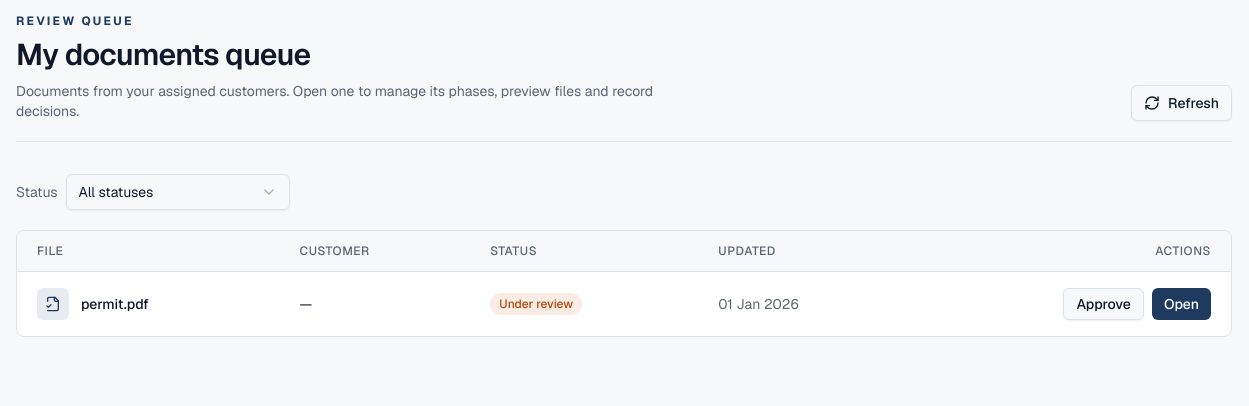
Test case: frontend modules › loads documents and approves an item under review
Expected: the text "permit.pdf" is shown, [81,294,149,314]
Click the button "Approve": (1104, 304) [1063,288,1144,320]
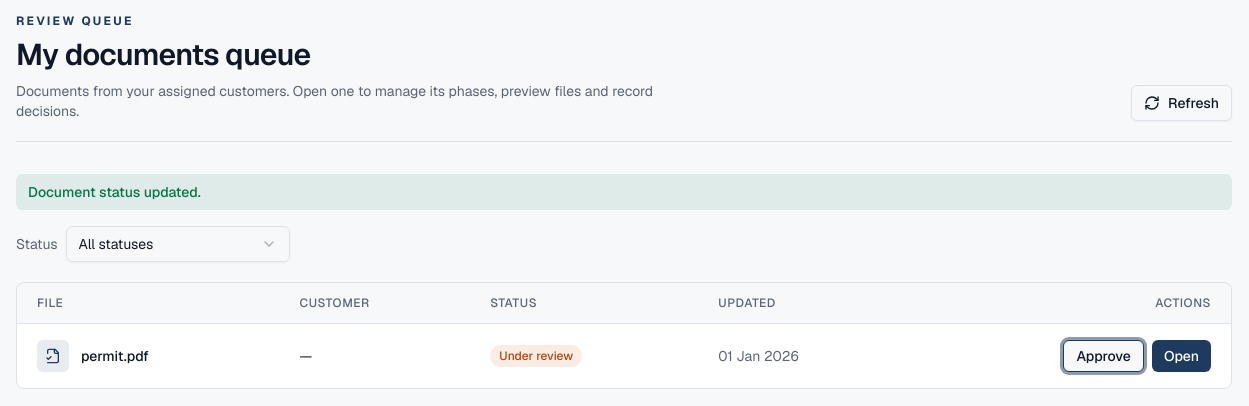
Result: the text "Document status updated." is shown at [16,174,1232,210]
